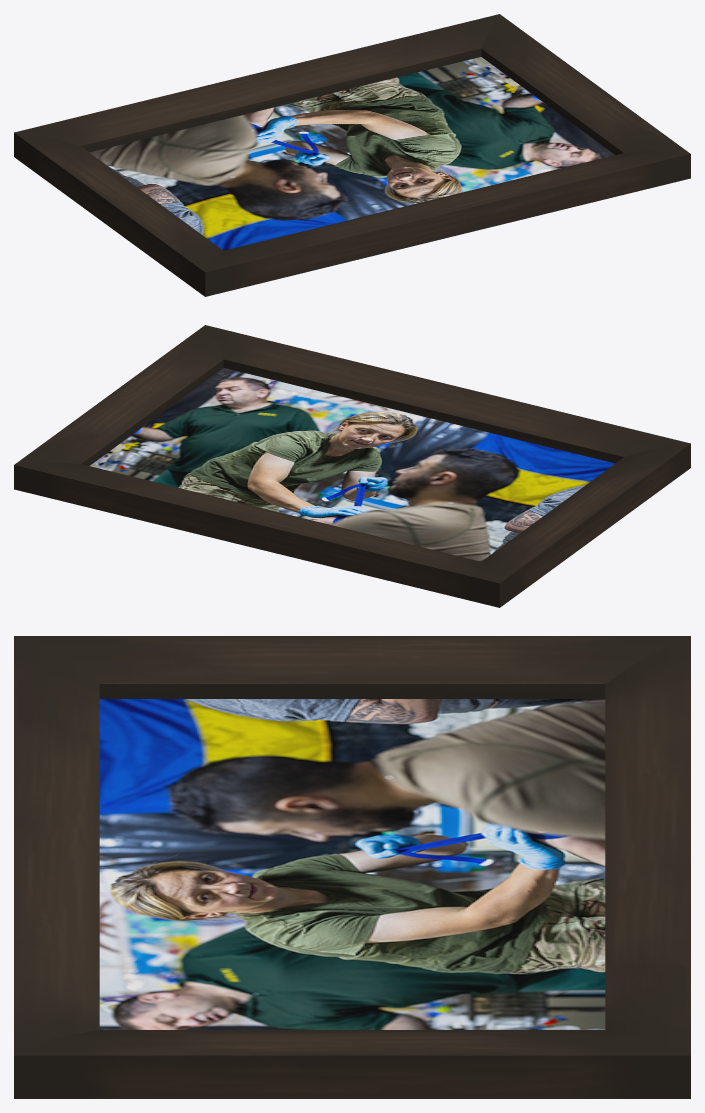
File: photoframe.glb
3 views of the same model, one above another, from view 1: azimuth 30°, elevation 25°; view 2: azimuth 150°, elevation 25°; view 3: azimuth 270°, elevation 25° (orthographic). The views are drawn at different scales.
Parts seen in each view (by area): view 1: photoframe1; view 2: photoframe1; view 3: photoframe1.
Boxes of the visible parts, x1,y1,x2,y2 form: photoframe1: (14, 14, 690, 296); photoframe1: (14, 325, 690, 607); photoframe1: (14, 636, 690, 1098).
Bounding box in the file's own units: 0.22 × 0.0106 × 0.15.
1 material, 1 textured.
